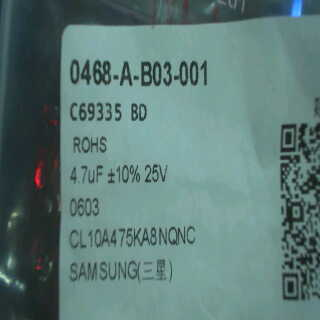4.7uF: (60, 161, 108, 187)
